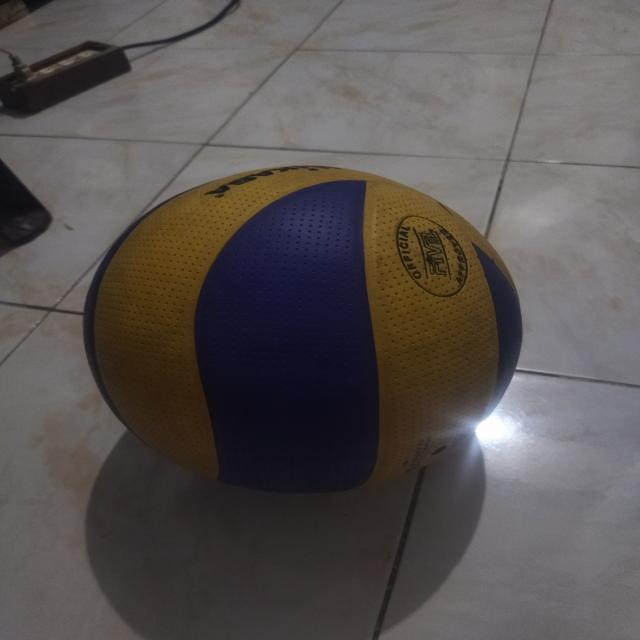Volleyball: (86, 167, 520, 498)
